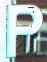Parking: (3, 1, 44, 59)
